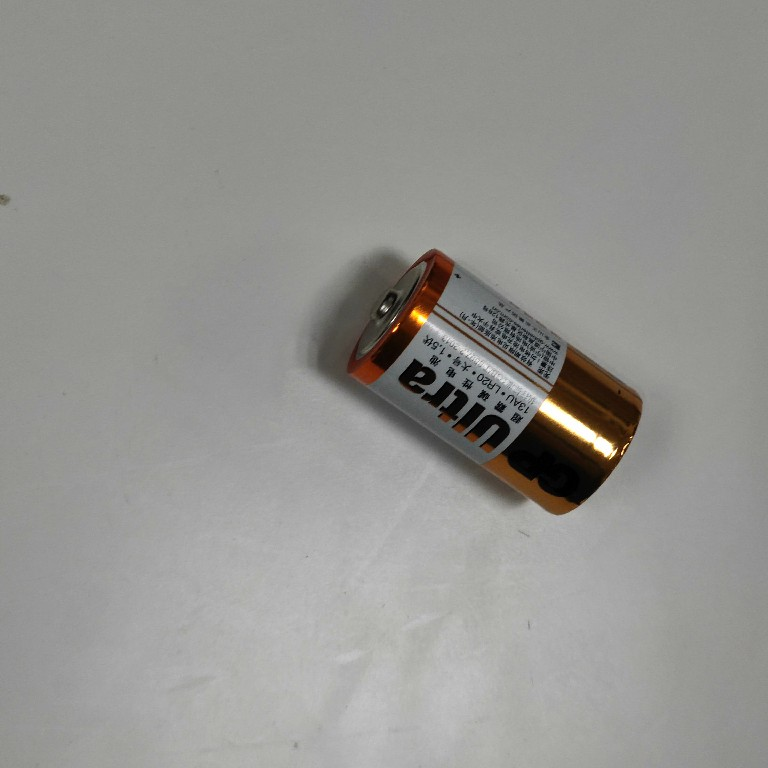charge: (340, 244, 646, 523)
